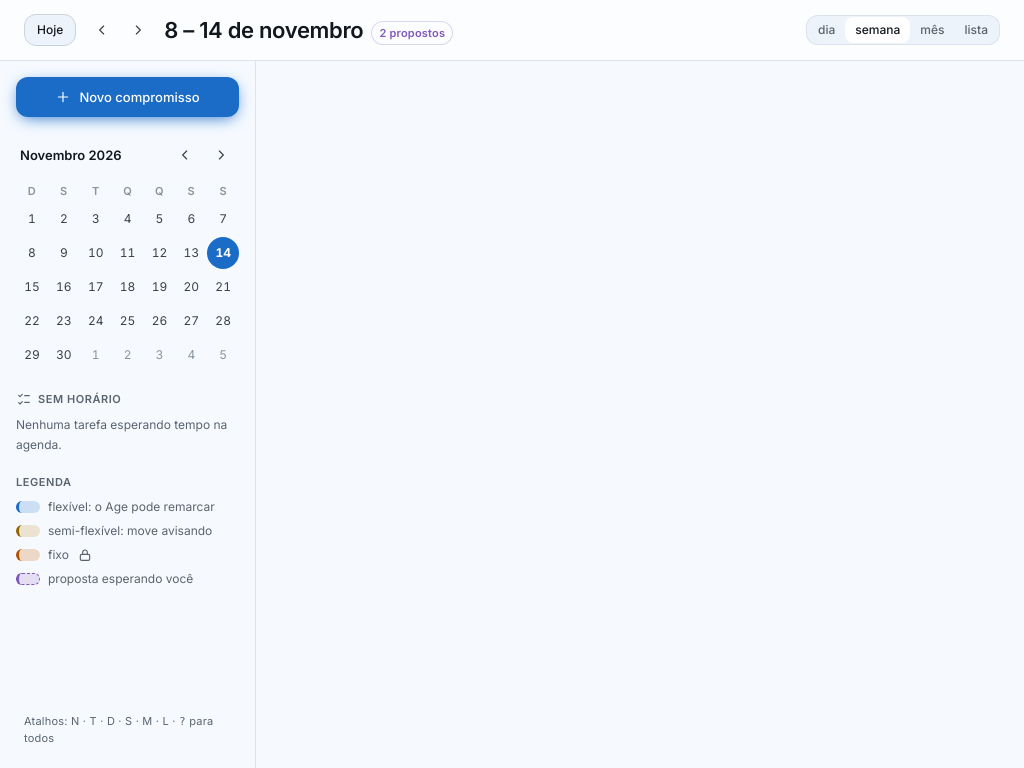
Test: o painel de propostas permite aprovar › dois planos pendentes viram dois cartoes
This screenshot has width=1024, height=768.
Click the button with aria-label "Gerenciar". click: point(412, 30)
box: [371, 15, 453, 45]
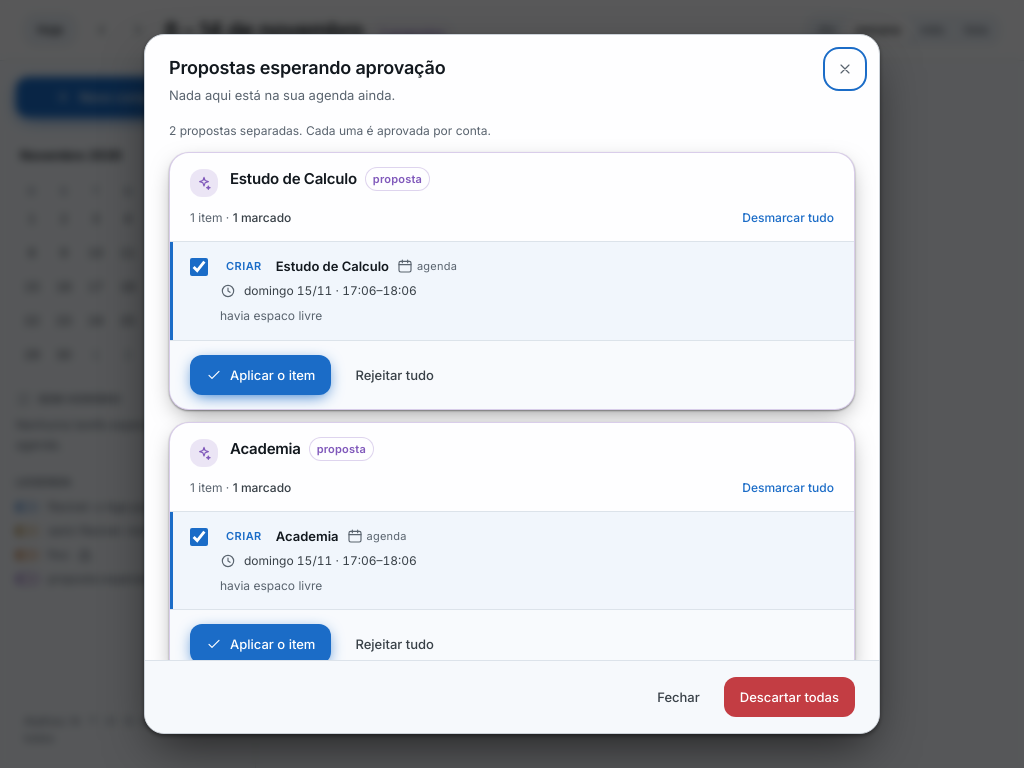
Expected: the number of buttons "Aplicar o item" is 2, [190, 355, 331, 395]; [190, 624, 331, 660]
